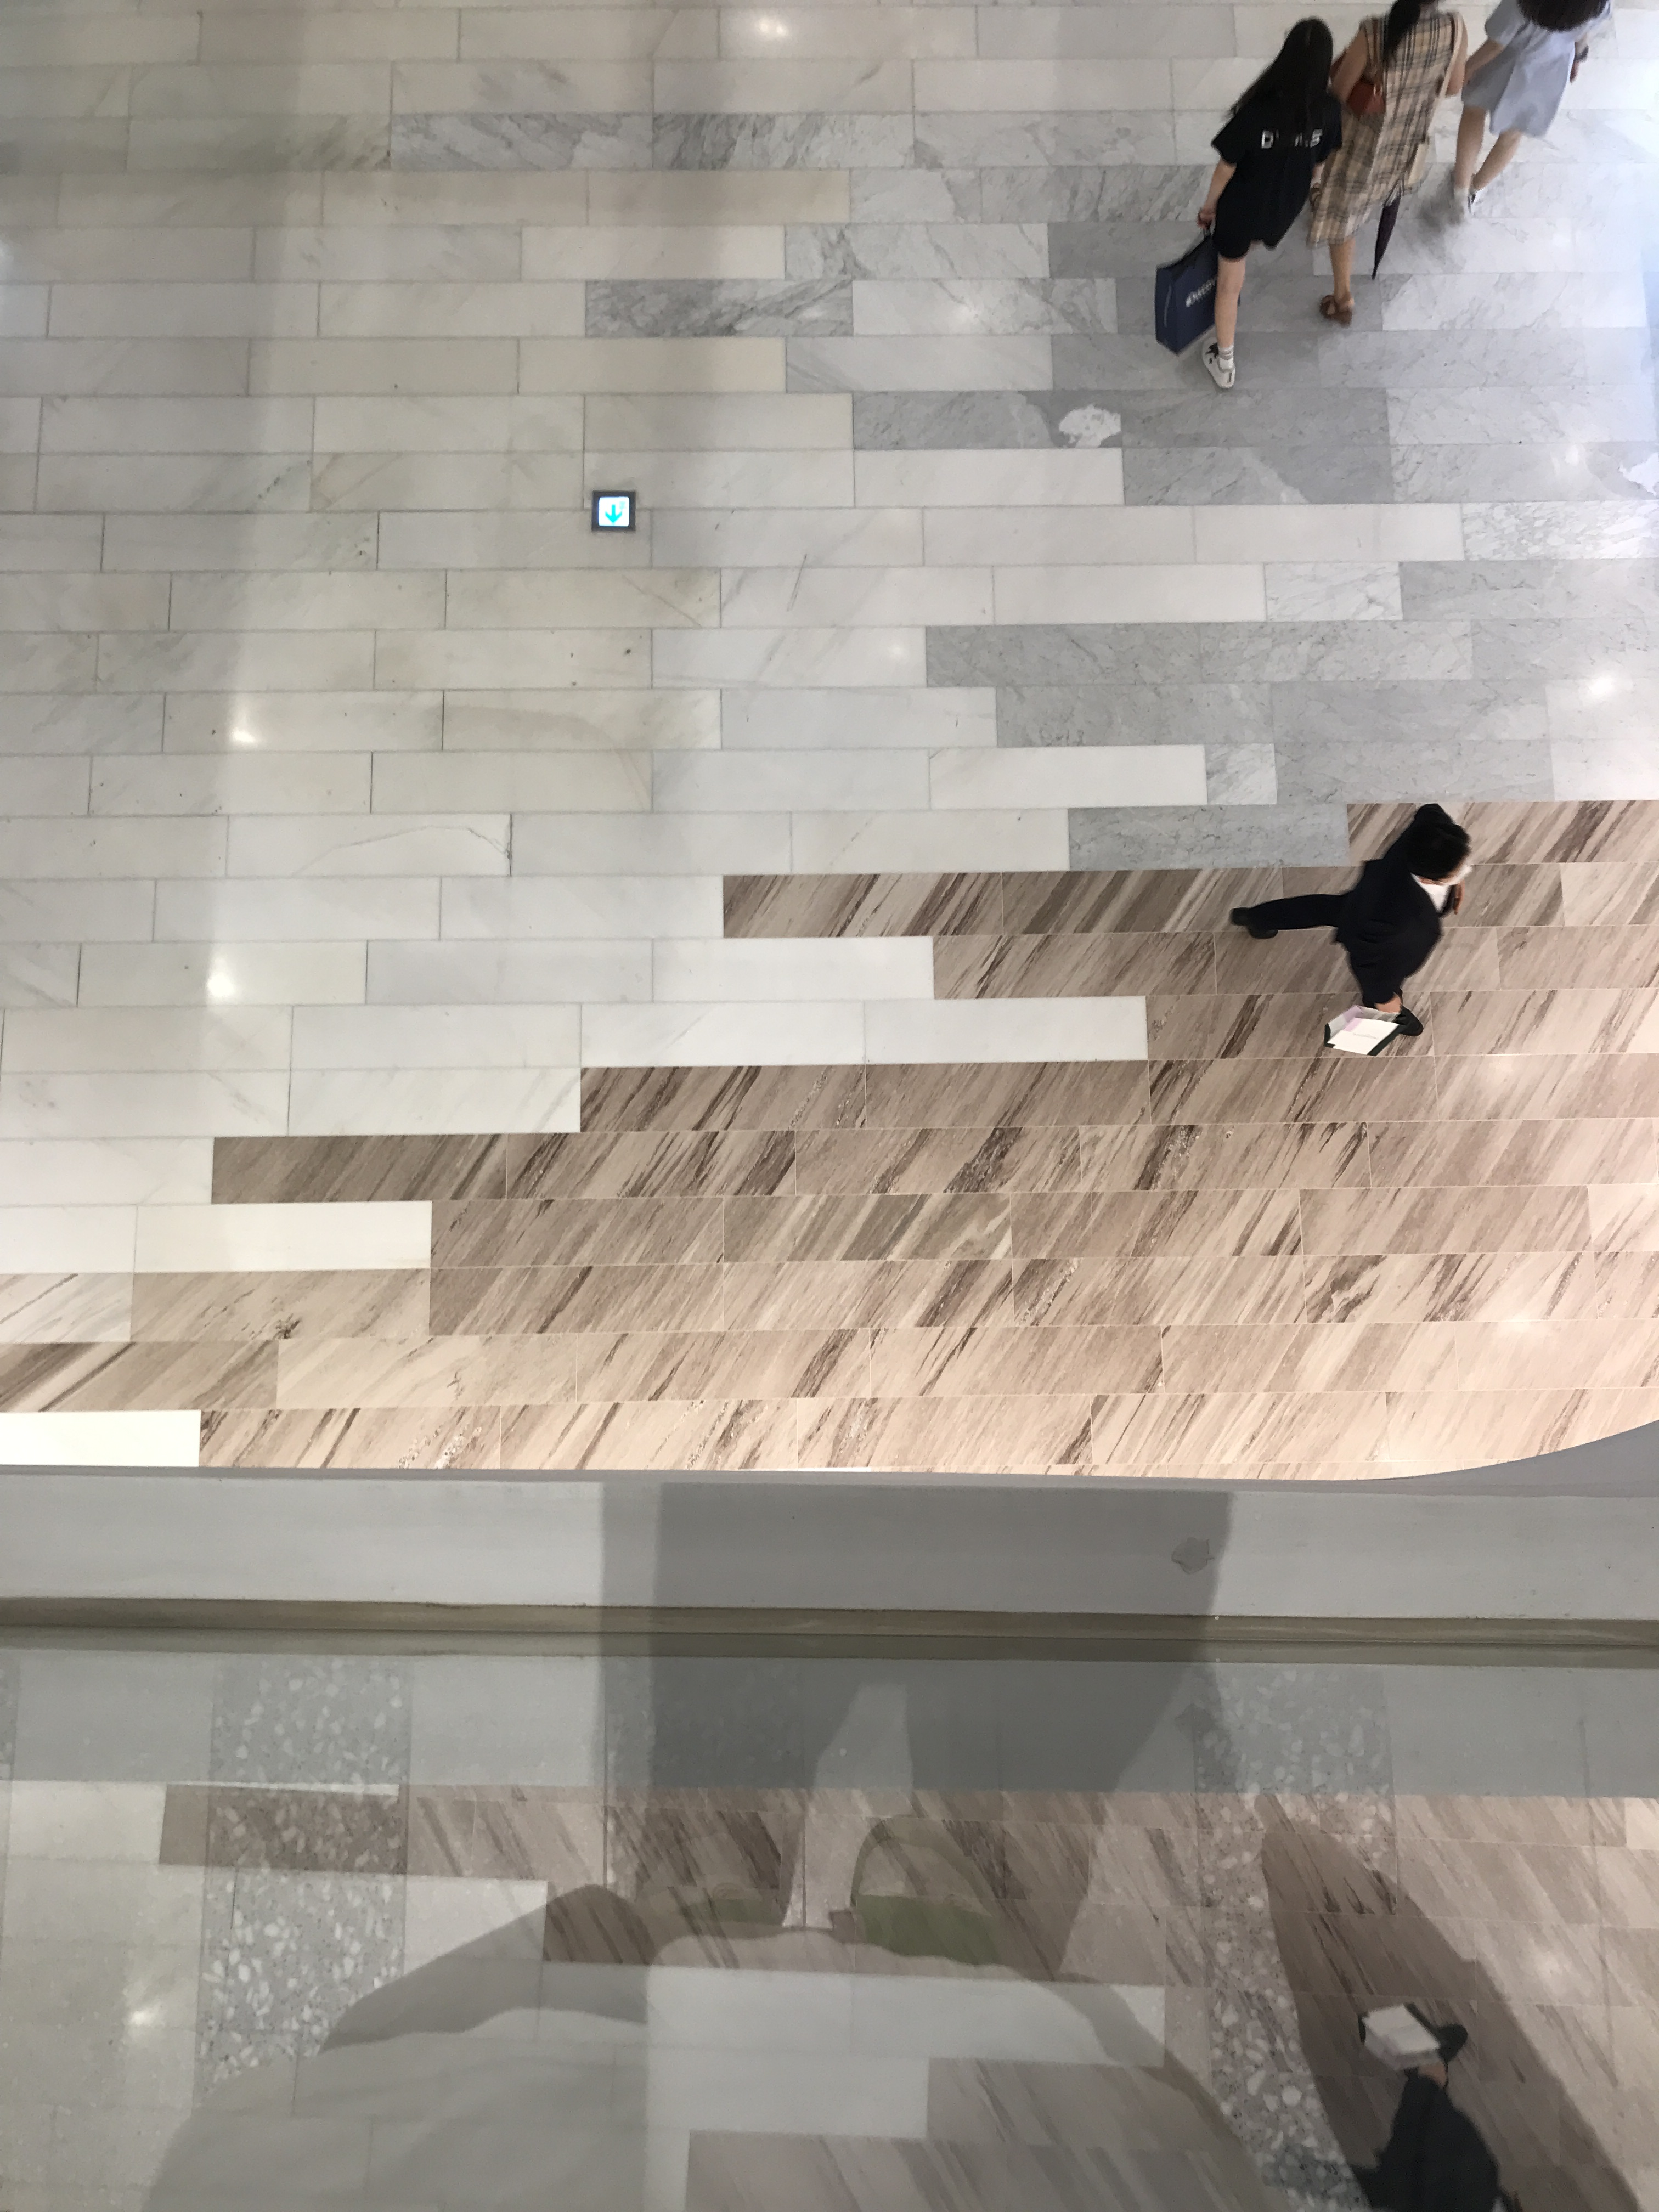person: (1222, 797, 1474, 1040), (1196, 19, 1343, 392), (1304, 1, 1464, 325), (1451, 1, 1611, 216)
